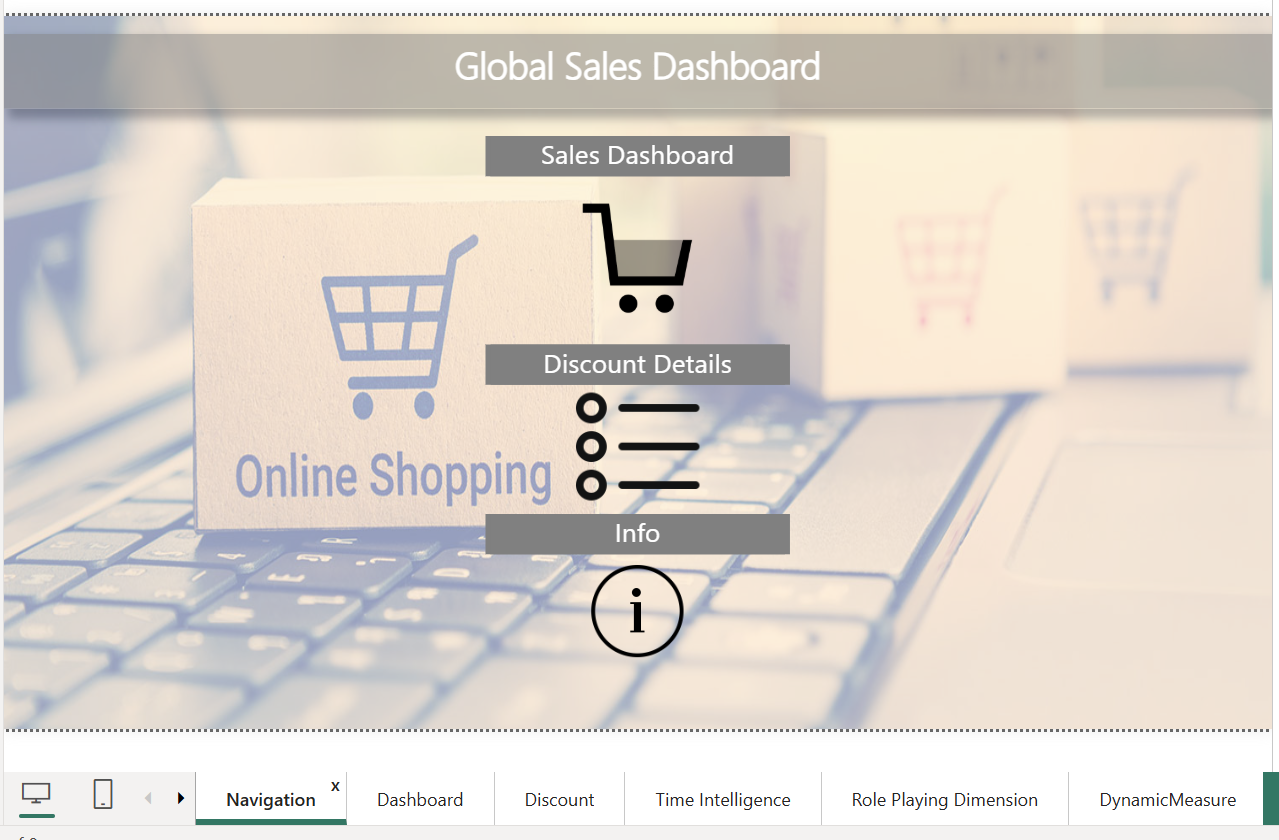

The dashboard page shown, as its layout file describes it:
{"tool":"powerbi","page":{"name":"Navigation","canvas":[1280,720],"ordinal":0},"visuals":[{"type":"textbox","box":[0,18,1280,75.1],"z":0},{"type":"image","title":"Discount Details","box":[486.4,332.3,307.2,170.1],"z":1000},{"type":"image","title":"Sales Dashboard","box":[486.4,121.1,307.2,211.2],"z":2000},{"type":"image","title":"Info","box":[486.4,502.4,307.2,160.1],"z":3000}]}

Visuals, with their boxes on the page's 1280x720 design canvas (x1, y1, x2, y2). These are canvas units, not pixel positions in the 1279x840 screenshot, which may show the page scaled, cropped or inside an application window:
textbox: <box>0,18,1280,93</box>
"Discount Details" image: <box>486,332,794,502</box>
"Sales Dashboard" image: <box>486,121,794,332</box>
"Info" image: <box>486,502,794,662</box>
